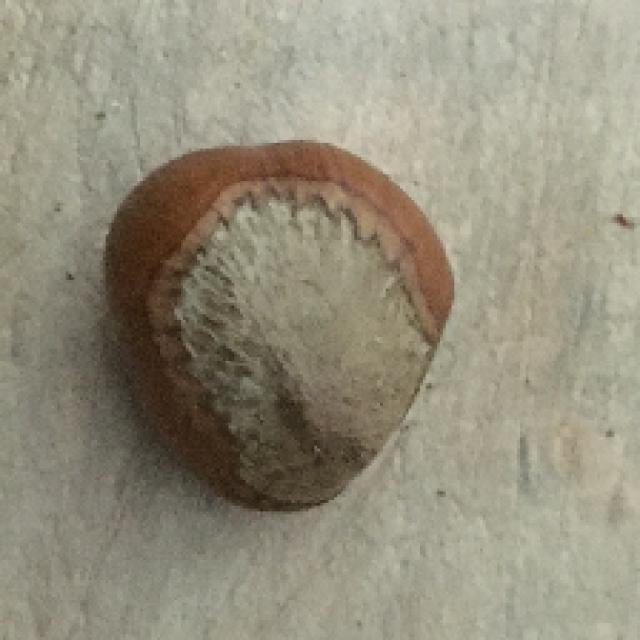qualityHazelnut: (90, 132, 459, 521)
